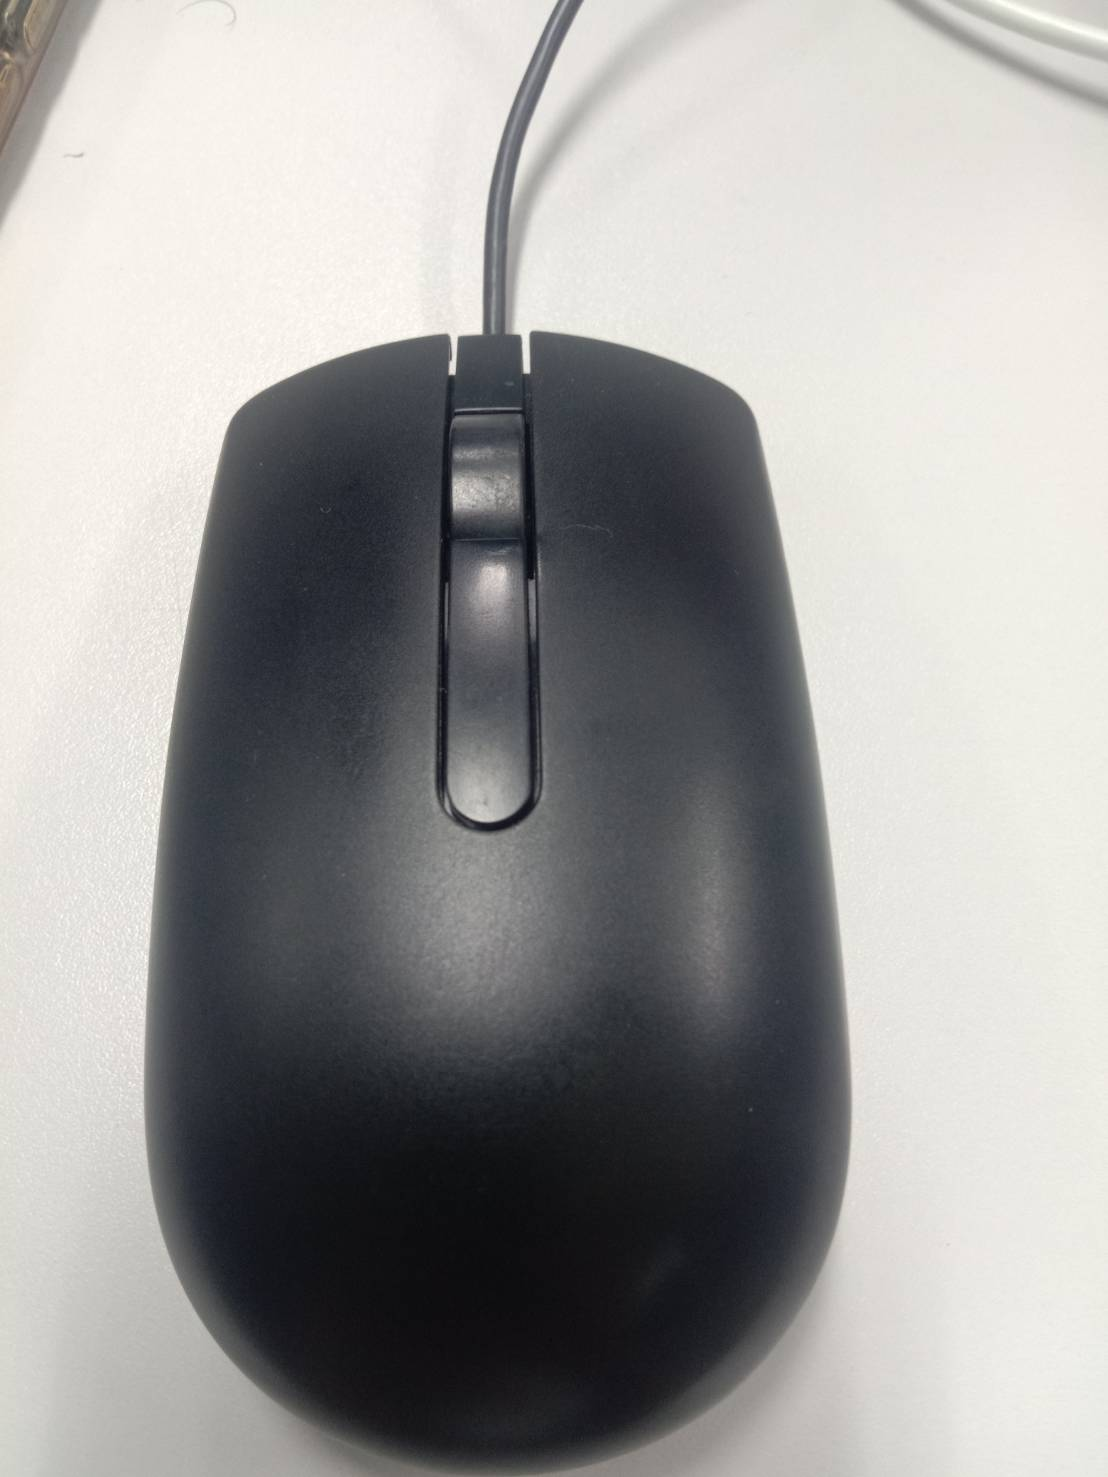mouse: (114, 299, 901, 1477)
